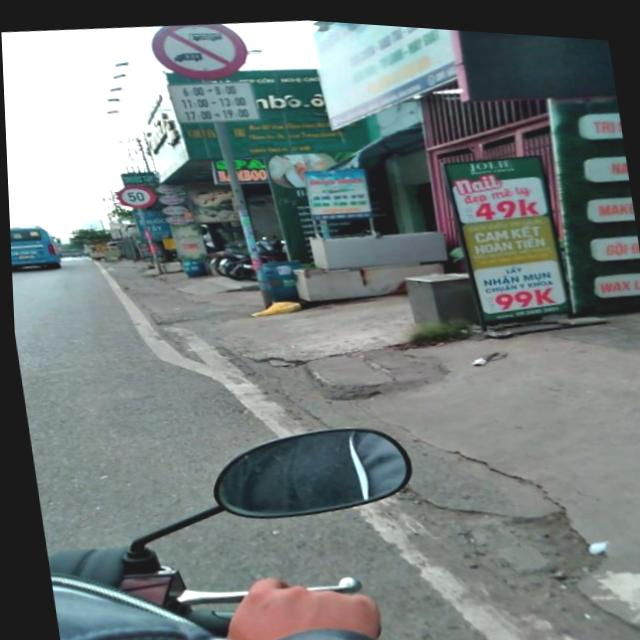Toc do toi da cho phep: (113, 180, 155, 210)
